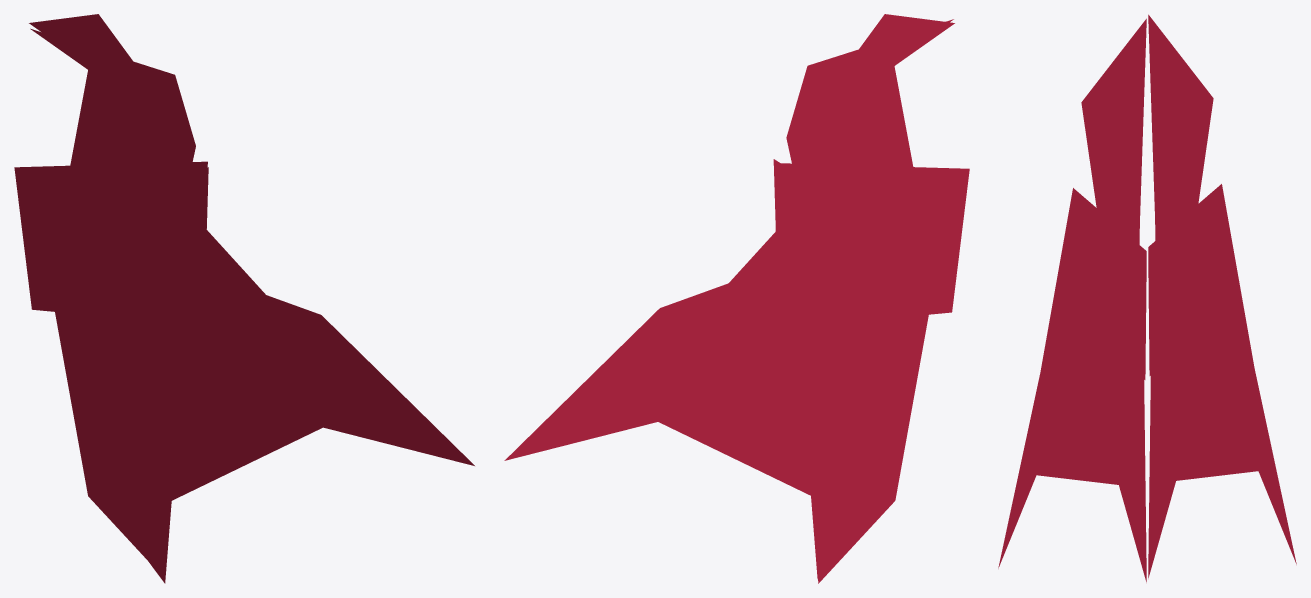
The model's file is pliage oiseau_test1.fbx.
3 renders of one model, left to right at view 1: azimuth 30°, elevation 25°; view 2: azimuth 150°, elevation 25°; view 3: azimuth 270°, elevation 25°, orthographic. The views are drawn at different scales.
Visible parts, largest first — view 1: Plane.001, Plane.002; view 2: Plane.002, Plane.001; view 3: Plane.001, Plane.002.
Part boxes in pixels (bbox=[...]): Plane.001: bbox=[30, 28, 474, 583]; Plane.002: bbox=[14, 14, 265, 559]; Plane.002: bbox=[504, 19, 953, 578]; Plane.001: bbox=[729, 14, 969, 583]; Plane.001: bbox=[998, 18, 1146, 582]; Plane.002: bbox=[1148, 14, 1296, 578].
Bounding box in the file's own units: 299 × 471 × 249.
